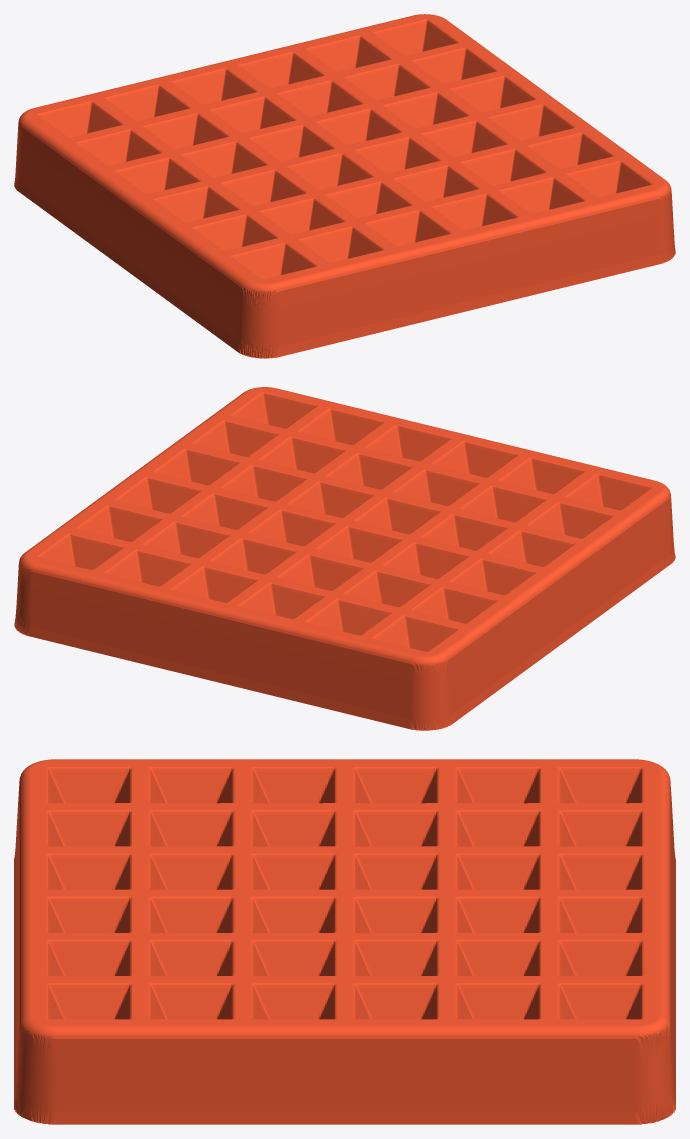
File: mold.glb
The picture shows the model from 3 angles, top to bottom: view 1: azimuth 30°, elevation 25°; view 2: azimuth 150°, elevation 25°; view 3: azimuth 270°, elevation 25°; orthographic projection. The views are drawn at different scales.
Visible parts, largest first — view 1: geometry_0; view 2: geometry_0; view 3: geometry_0.
Boxes of the visible parts, <box> form: geometry_0: <box>14,14,675,358</box>; geometry_0: <box>14,387,675,730</box>; geometry_0: <box>14,759,675,1124</box>.
Size of the model in its own units: 0.1434 by 0.0219 by 0.1434.
